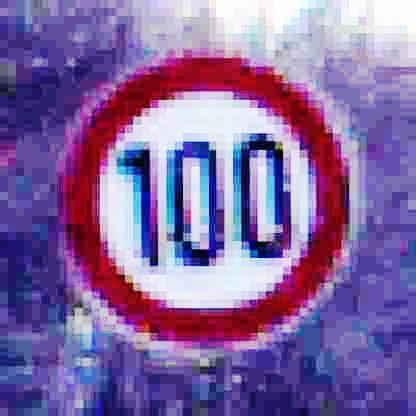Speed Limit -100-: (52, 45, 350, 356)
